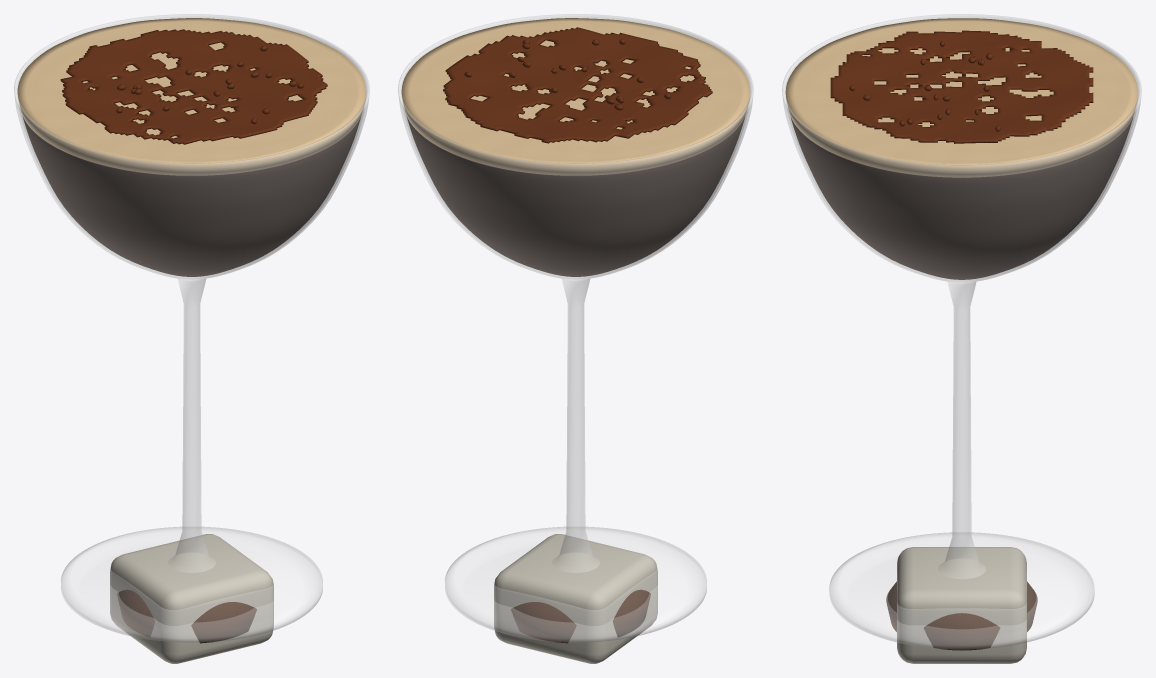
The model's file is jigger-espresso-martini.glb.
The picture shows the model from 3 angles, left to right: view 1: azimuth 30°, elevation 25°; view 2: azimuth 150°, elevation 25°; view 3: azimuth 270°, elevation 25°; orthographic projection.
Parts seen in each view (by area): view 1: glass, liquid, crema, garnish_cacao_tuile, recipe_liqueur, recipe_coffee, garnish_cacao_texture; view 2: glass, liquid, crema, garnish_cacao_tuile, recipe_liqueur, recipe_coffee, garnish_cacao_texture; view 3: glass, liquid, crema, garnish_cacao_tuile, recipe_liqueur, recipe_coffee, garnish_cacao_texture.
Part boxes in pixels (box(x1,y1,x2,y2)): glass: box(14, 14, 369, 642); liquid: box(23, 116, 361, 276); crema: box(17, 18, 366, 175); garnish_cacao_tuile: box(60, 29, 327, 144); recipe_liqueur: box(110, 534, 273, 663); recipe_coffee: box(117, 589, 256, 643); garnish_cacao_texture: box(116, 46, 304, 123); glass: box(398, 14, 753, 642); liquid: box(406, 116, 744, 276); crema: box(401, 18, 750, 175); garnish_cacao_tuile: box(443, 27, 712, 143); recipe_liqueur: box(494, 534, 657, 663); recipe_coffee: box(511, 589, 650, 643); garnish_cacao_texture: box(464, 39, 670, 110); glass: box(782, 14, 1141, 649); liquid: box(791, 118, 1132, 279); crema: box(785, 18, 1138, 177); garnish_cacao_tuile: box(830, 30, 1093, 143); recipe_liqueur: box(897, 547, 1026, 663); recipe_coffee: box(886, 581, 1037, 650); garnish_cacao_texture: box(849, 41, 1000, 131).
Size of the model in its own units: 1.52 by 2.61 by 1.52.
